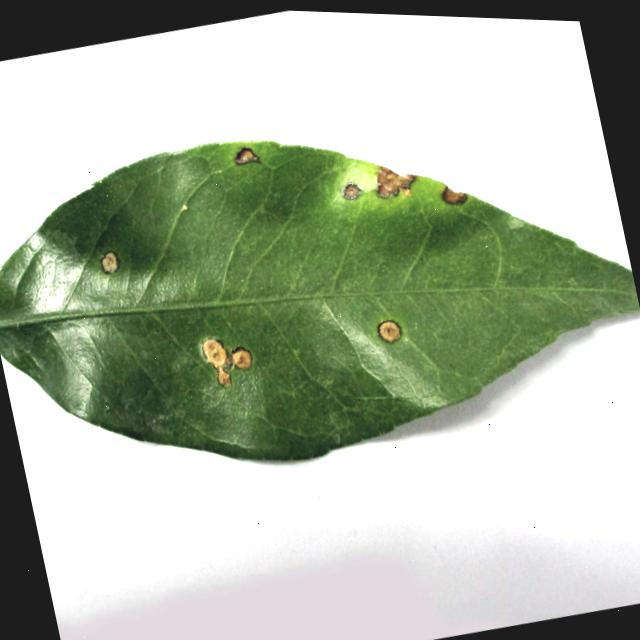antracnose: (0, 141, 640, 460), (201, 337, 251, 386), (377, 166, 414, 196), (377, 319, 401, 342), (234, 147, 259, 164), (442, 187, 466, 204), (100, 251, 118, 273), (343, 183, 360, 199)
